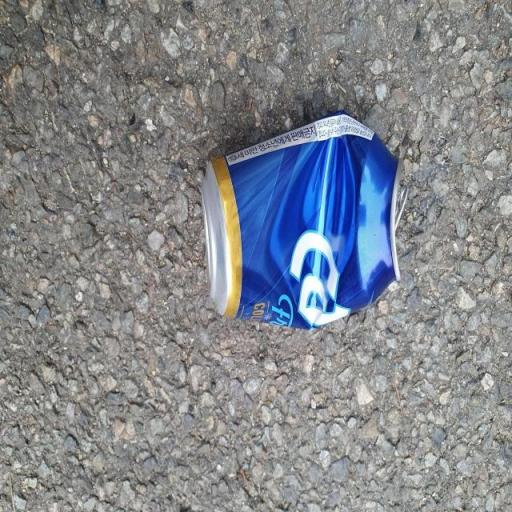metal: (176, 93, 408, 352)
